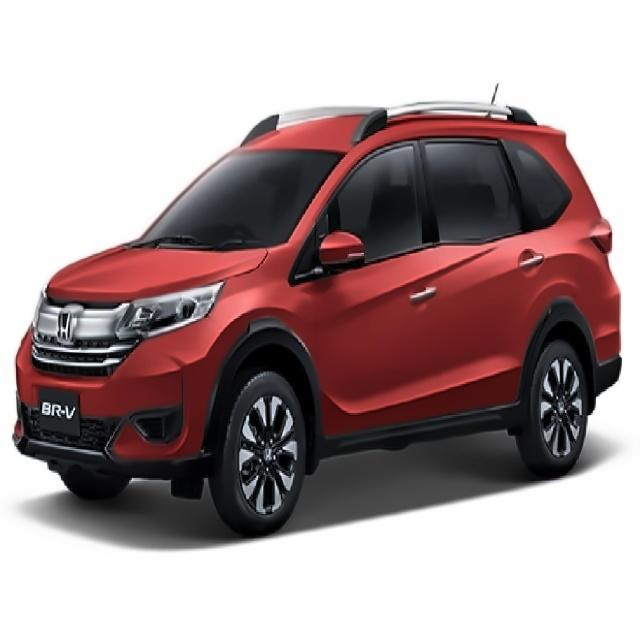Car hood: (42, 240, 269, 309)
Fender - -F-L-: (207, 216, 317, 461)
Fender - -R-L-: (551, 228, 611, 333)
Front bumper: (9, 313, 250, 483)
Headlight - -L-: (113, 276, 229, 344)
Headlight - -R-: (26, 286, 57, 337)
Passenger-s door - -F-L-: (318, 130, 440, 442)
Passenger-s door - -R-L-: (430, 131, 552, 425)
Rear bumper: (582, 280, 626, 420)
Rear light - -L-: (584, 218, 619, 262)
Side bumper - -L-: (304, 396, 532, 479)
Side mirror - -L-: (313, 227, 371, 278)
